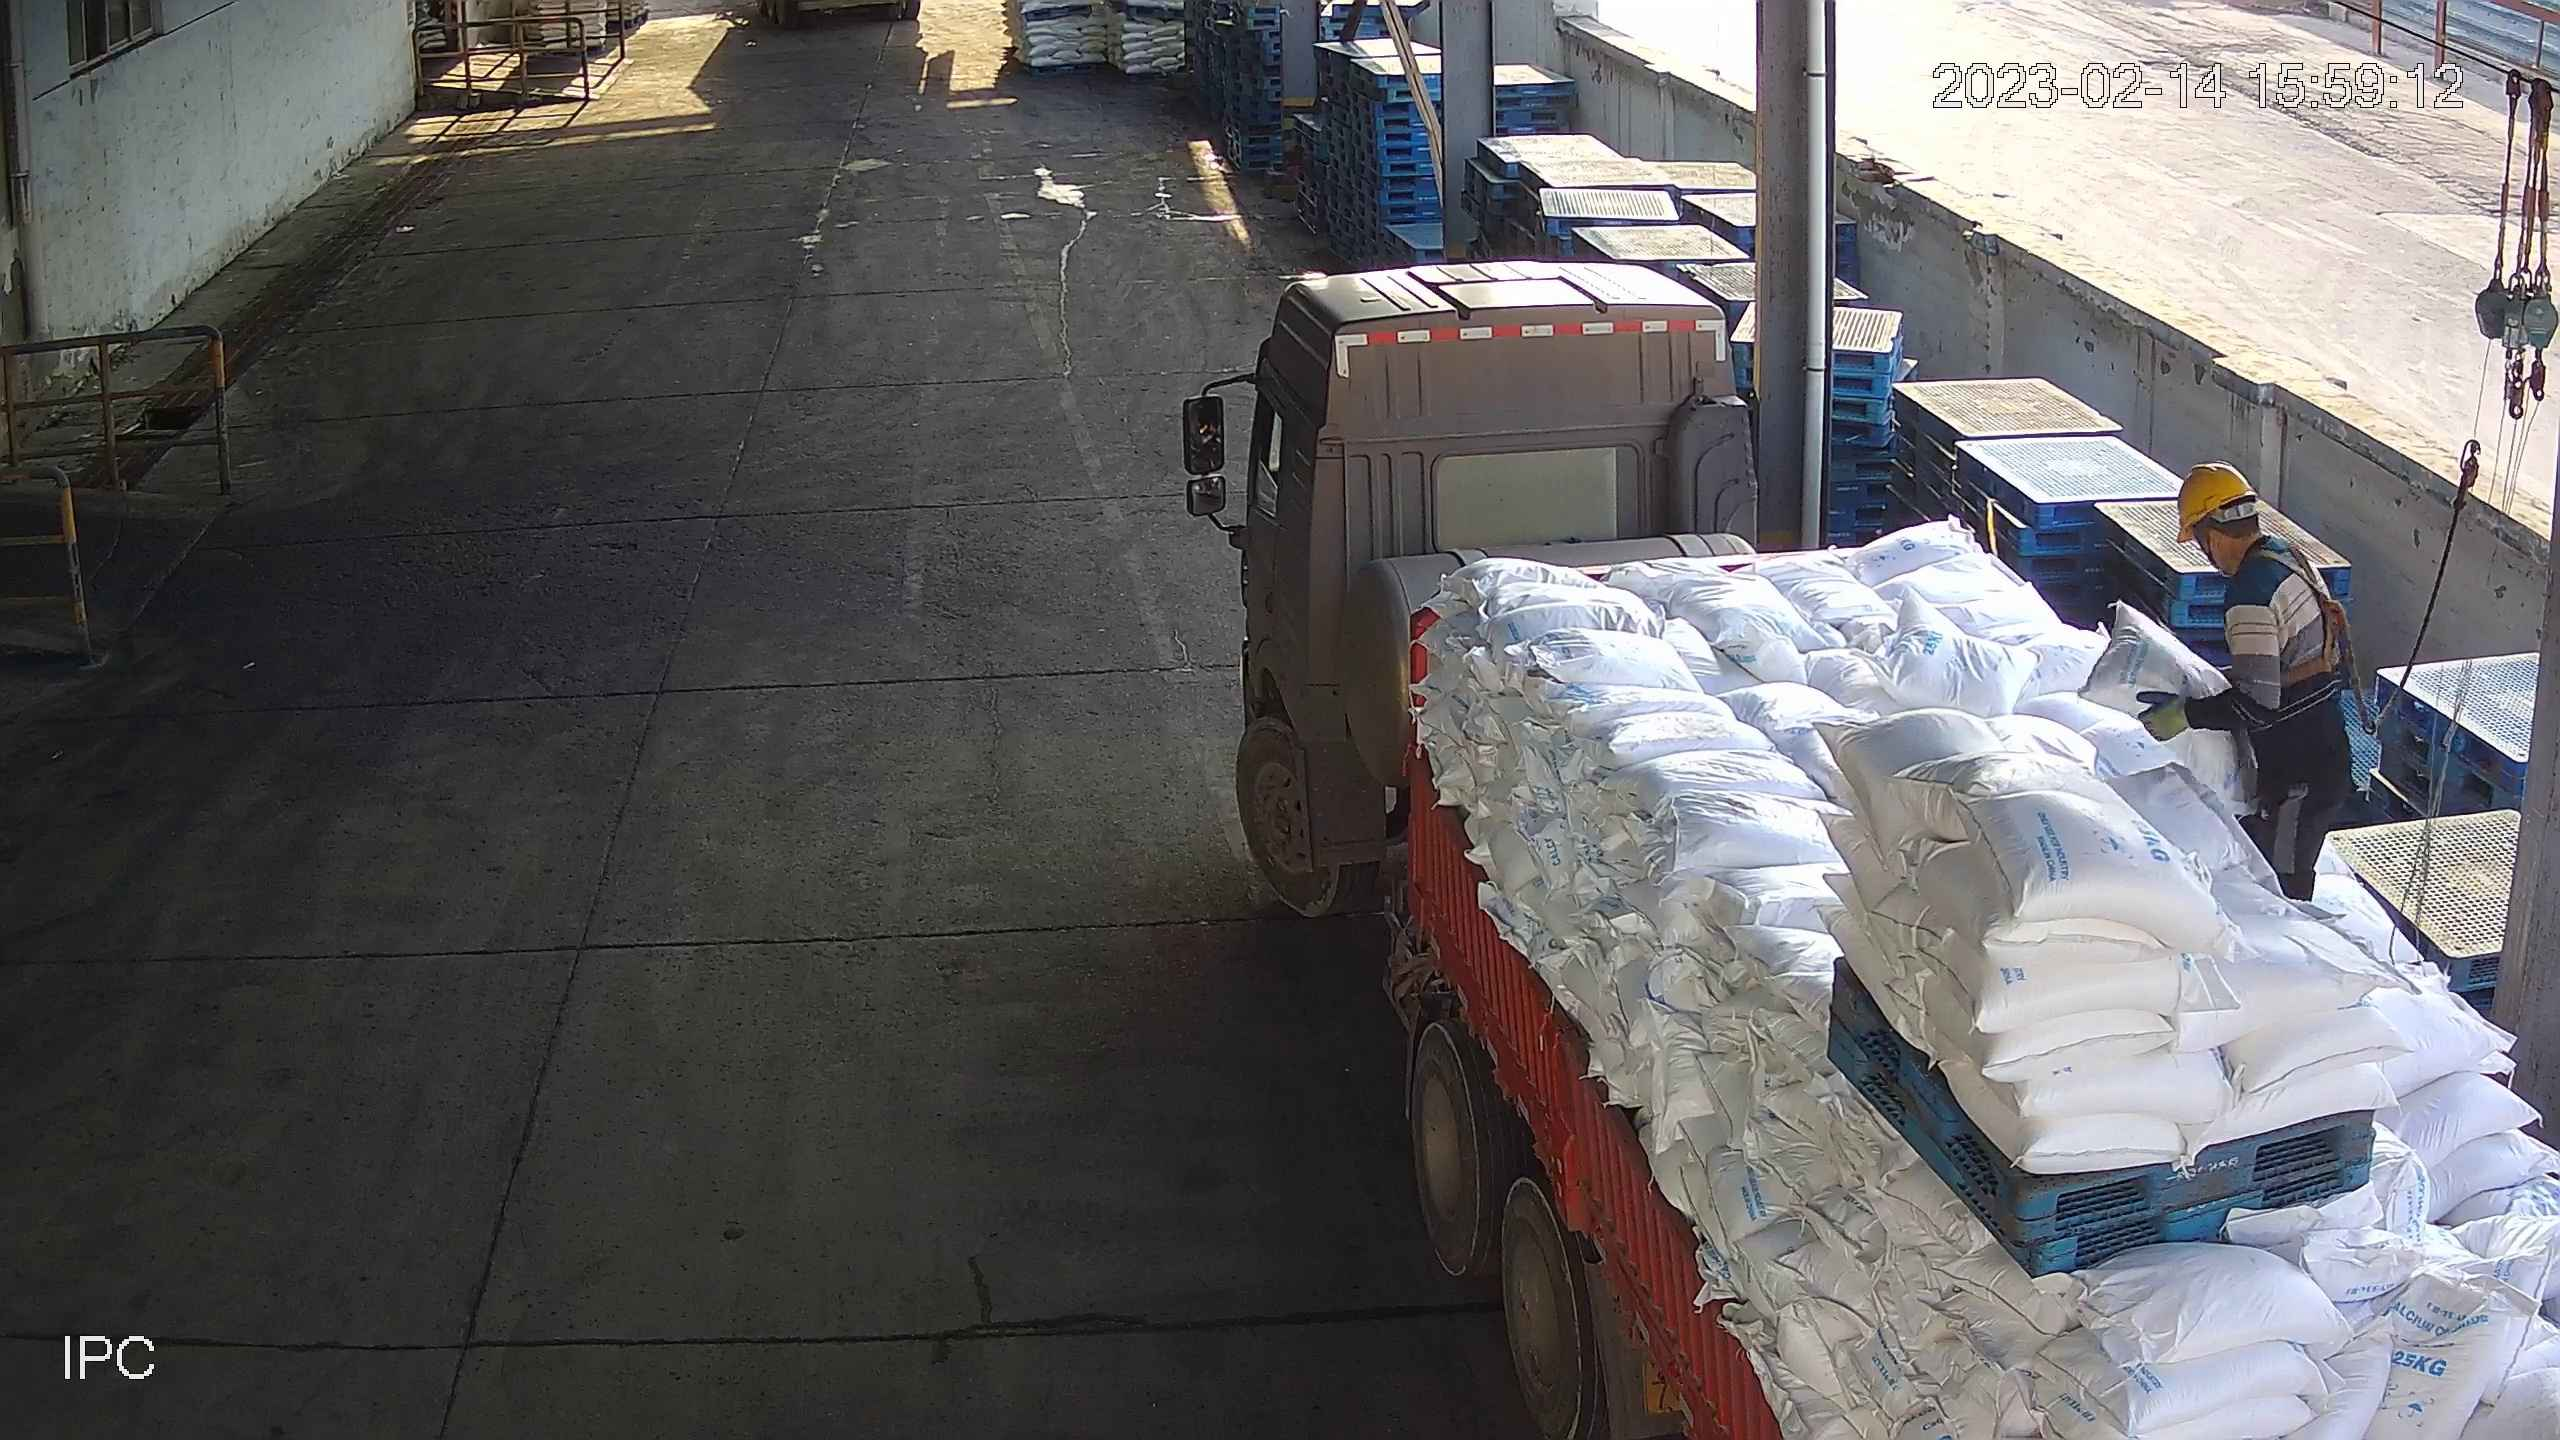belt: (2262, 537, 2356, 700)
head: (2171, 462, 2357, 689)
helmet: (2178, 466, 2256, 545)
people: (2135, 464, 2357, 906)
truck: (1181, 250, 2560, 1440)
